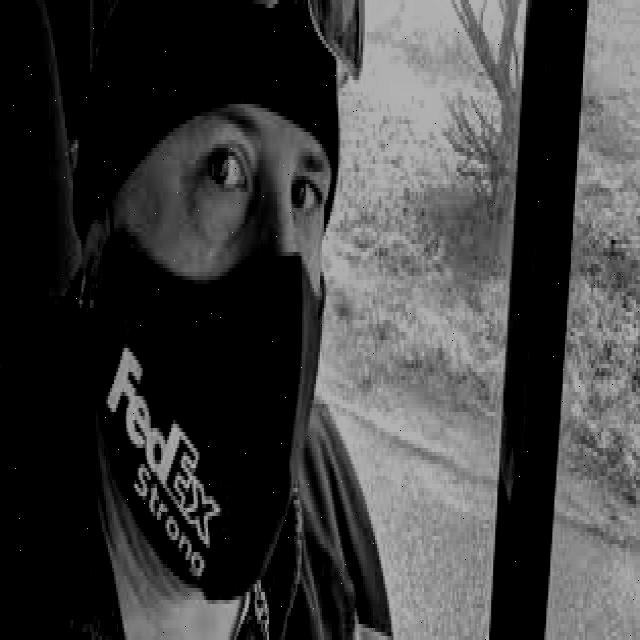fake: (76, 244, 327, 602)
real: (75, 111, 333, 607)
